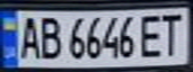4: (103, 12, 124, 60)
6: (63, 13, 87, 60), (84, 13, 106, 60), (118, 12, 139, 60)
A: (15, 13, 42, 60)
B: (36, 12, 63, 61)
E: (136, 11, 166, 58)
T: (157, 10, 187, 56)
